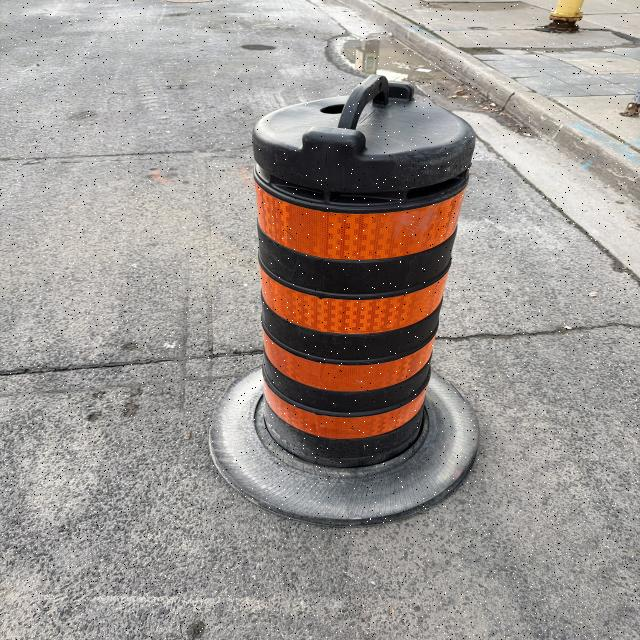Teraffic Barrel: (210, 75, 478, 524)
